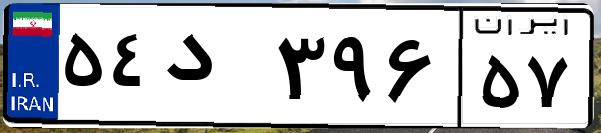3: (270, 28, 330, 110)
4: (110, 28, 158, 98)
5: (57, 26, 110, 100), (475, 38, 525, 113)
6: (385, 28, 445, 110)
7: (525, 38, 570, 115)
9: (330, 28, 385, 110)
د: (158, 20, 270, 120)
